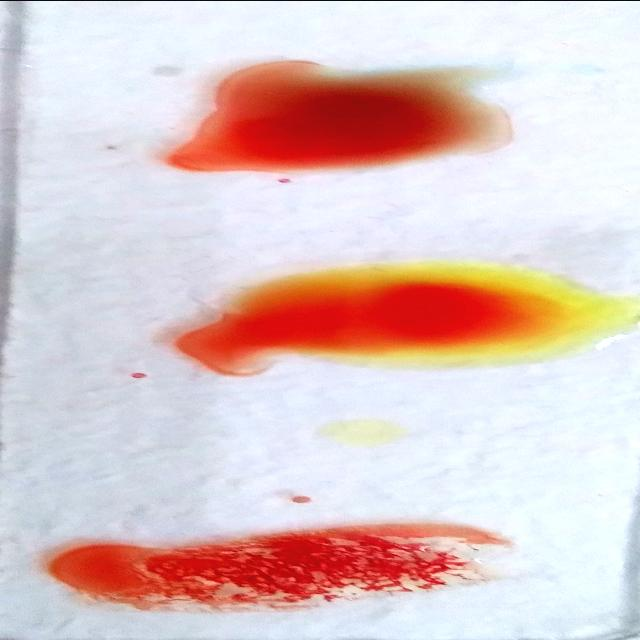D: (51, 520, 497, 613)
